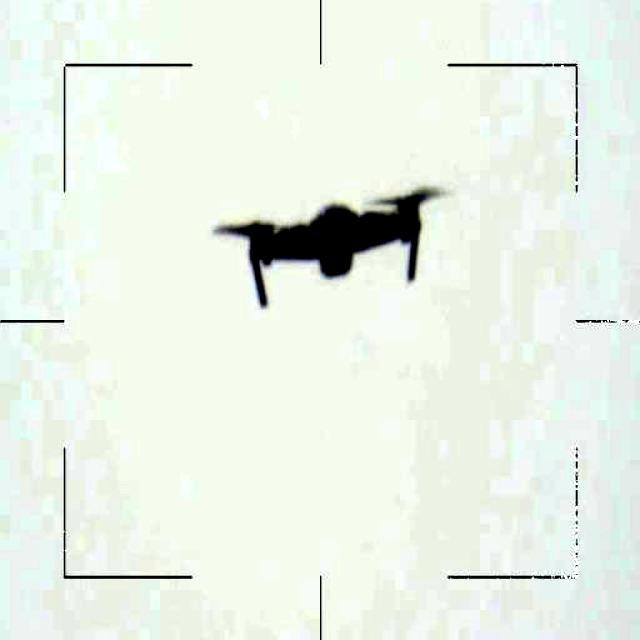bird: (200, 180, 458, 314)
